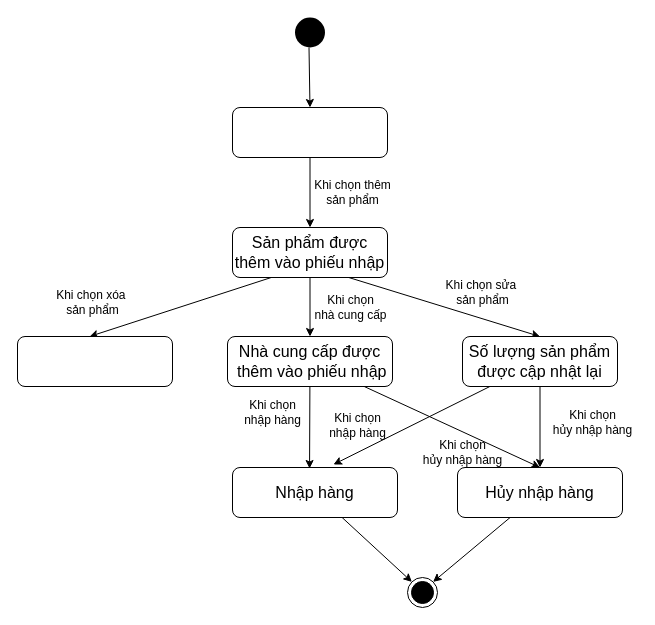
Some shapes in this 655 by 625 pixel diagram are drawn without their labels. Each missing label, with the centre of its shape:
Sản phẩm được xóa khỏi phiếu nhập: point (94, 361)
Sẵn sàng nhập hàng: point (310, 132)
